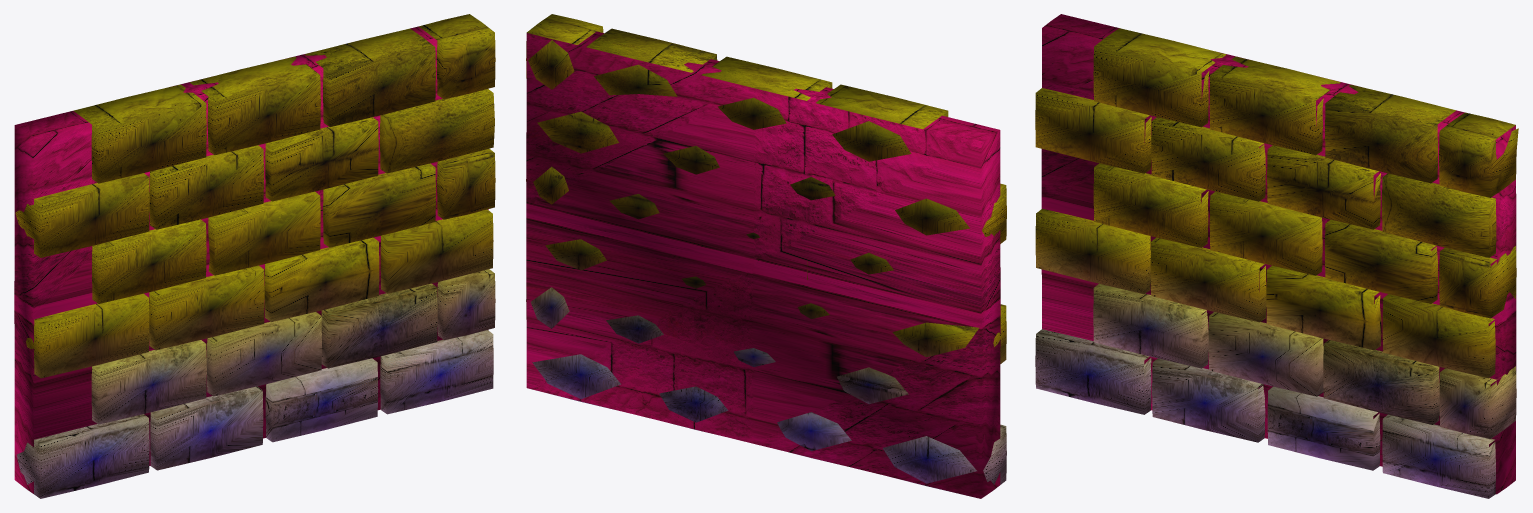
Rendered from env_arch_ashlarwall_4m_lod0-raw-dfe3086fdd2b.glb.
3 views of the same model, side by side, from view 1: azimuth 30°, elevation 25°; view 2: azimuth 150°, elevation 25°; view 3: azimuth 330°, elevation 25° (orthographic).
Parts seen in each view (by area): view 1: ENV_ARCH_AshlarWall_4m_LOD0; view 2: ENV_ARCH_AshlarWall_4m_LOD0; view 3: ENV_ARCH_AshlarWall_4m_LOD0.
Boxes of the visible parts, x1,y1,x2,y2 form: ENV_ARCH_AshlarWall_4m_LOD0: (14,14,495,498); ENV_ARCH_AshlarWall_4m_LOD0: (526,14,1006,498); ENV_ARCH_AshlarWall_4m_LOD0: (1035,14,1518,498).
Bounding box in the file's own units: 3.97 × 2.97 × 0.4176.
1 material, 1 textured.
